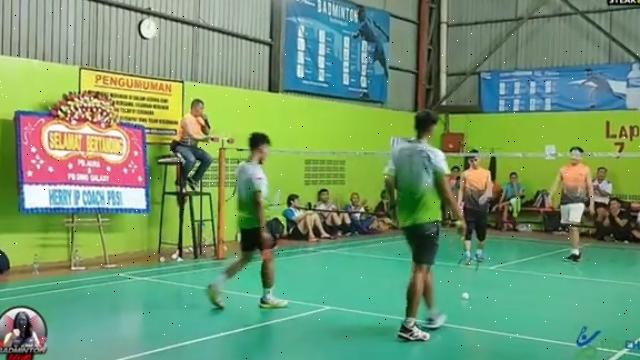Shuttlecock: (459, 290, 473, 304)
